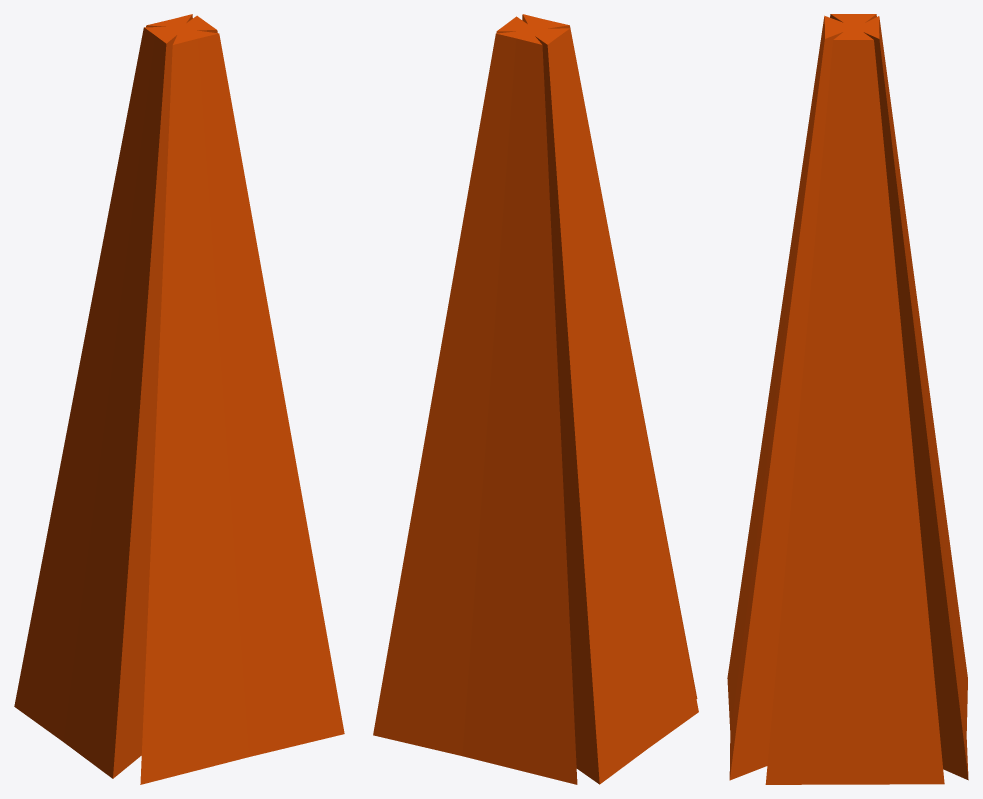
File: tree-autumn-leaves-008.glb
The picture shows the model from 3 angles, left to right: view 1: azimuth 30°, elevation 25°; view 2: azimuth 150°, elevation 25°; view 3: azimuth 270°, elevation 25°; orthographic projection. The views are drawn at different scales.
Parts seen in each view (by area): view 1: Circle.018_333; view 2: Circle.018_333; view 3: Circle.018_333.
Boxes of the visible parts, x1,y1,x2,y2 form: Circle.018_333: (14,14,344,784); Circle.018_333: (373,14,698,784); Circle.018_333: (727,14,968,784).
Bounding box in the file's own units: 0.5359 × 1.54 × 0.4779.
